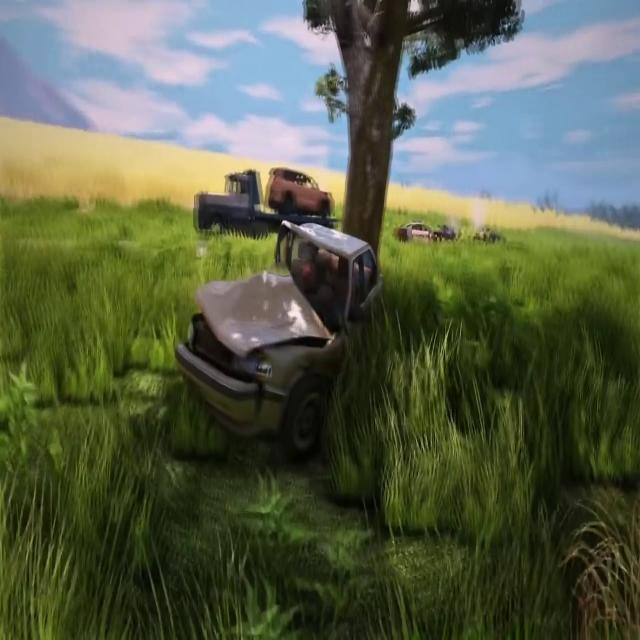accident: (152, 194, 414, 458)
